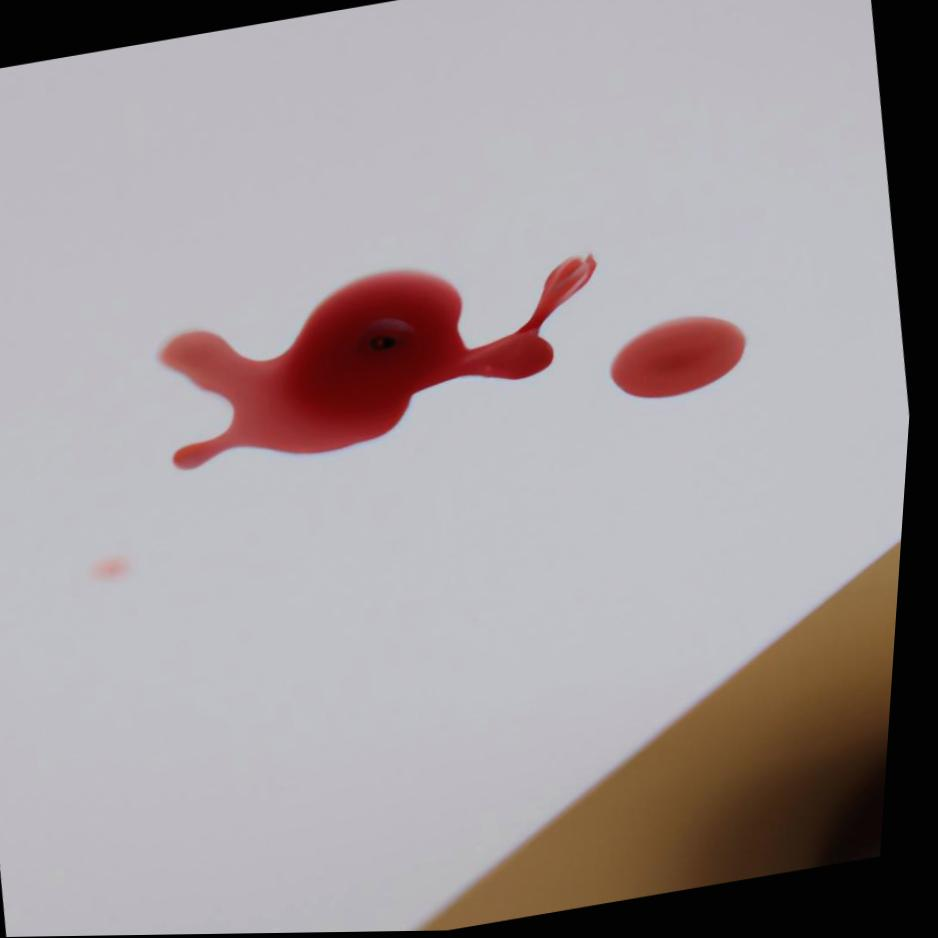Fire: (164, 255, 601, 472), (615, 318, 751, 400)
